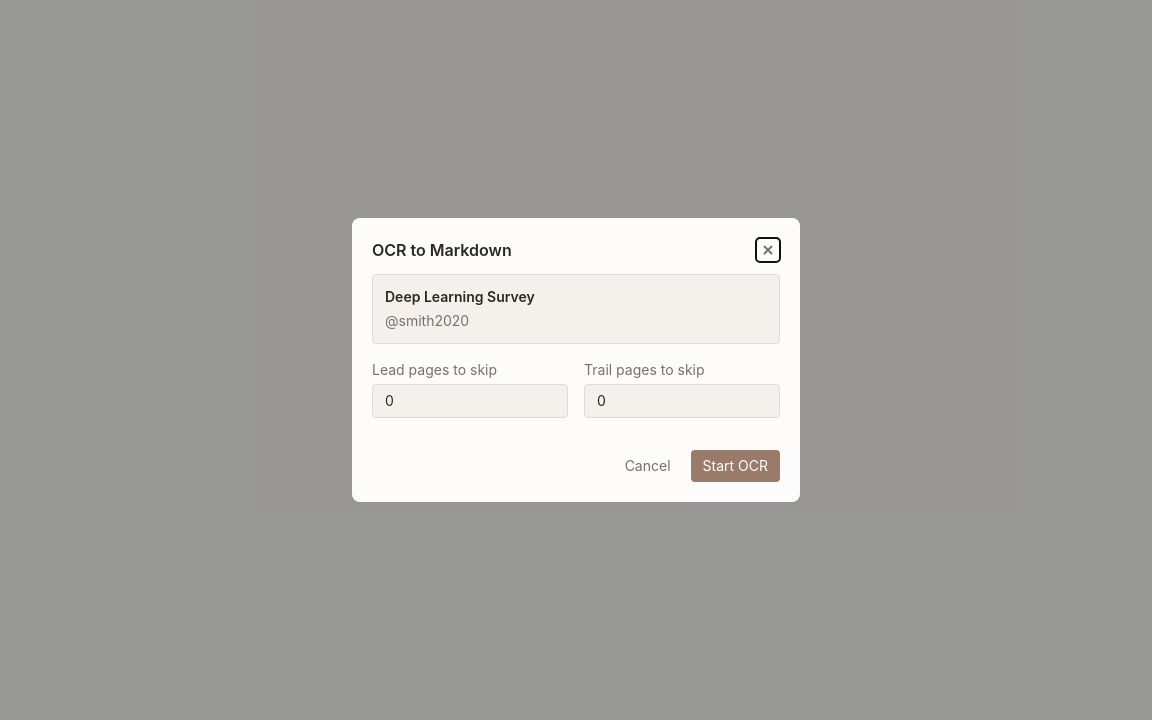
Test: OcrDialog › overwrite confirmation appears when target exists
The width and height of the screenshot is (1152, 720).
What coordinates should you click on to do the following:
click the button with test id "ocr-start-btn"
I would click on:
 (735, 466)
Its box is [690,450,780,482].
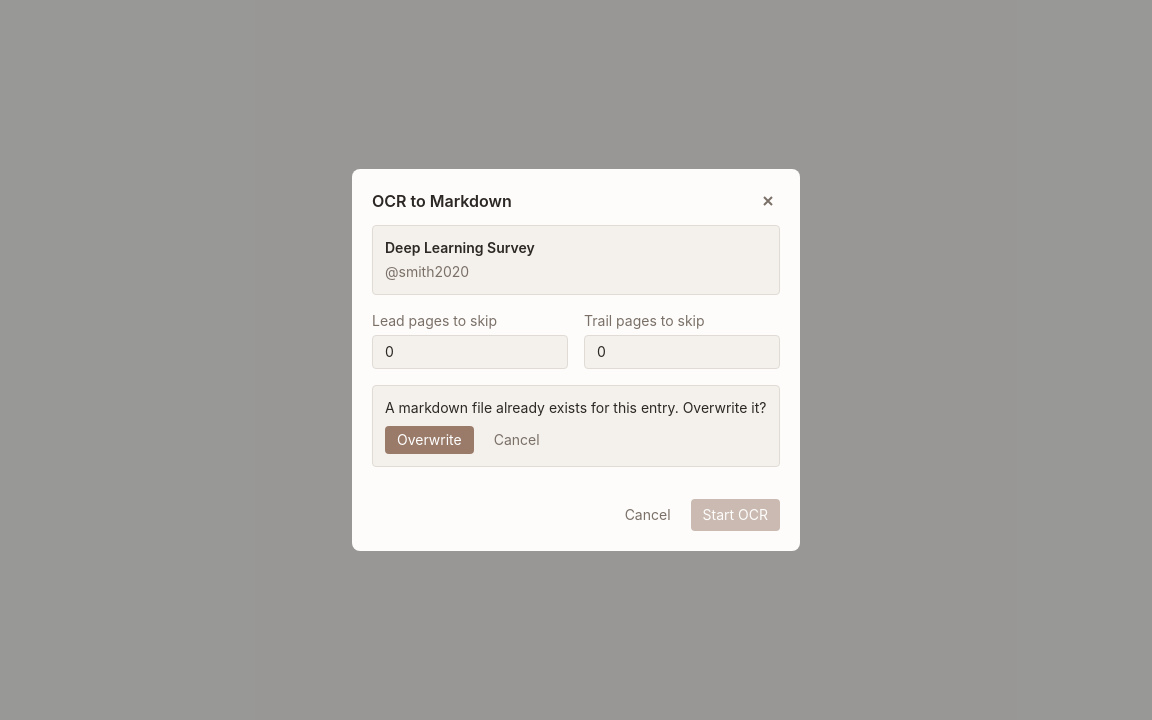
Result: the element with test id "ocr-overwrite-confirm" is shown at [372,385,780,467]
Result: the element with test id "ocr-overwrite-confirm" shows "already exists" at [385,399,766,416]
Result: the button with test id "ocr-start-btn" is disabled at [690,499,780,531]
